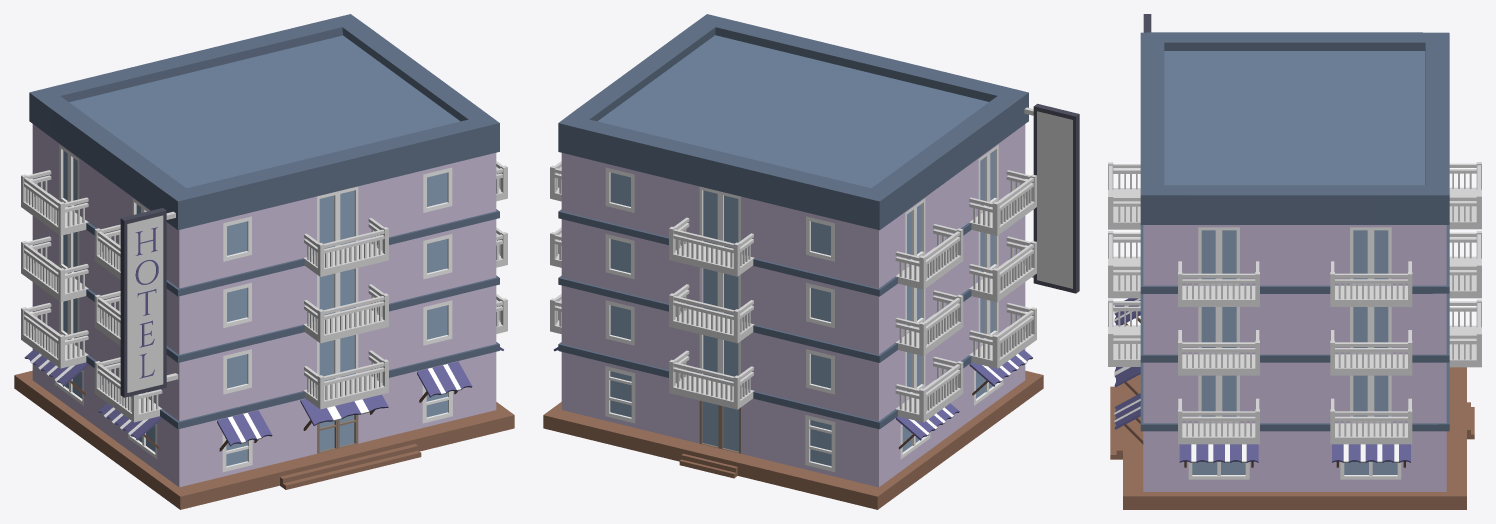
The model's file is Hotel_09.fbx.
3 renders of one model, left to right at view 1: azimuth 30°, elevation 25°; view 2: azimuth 150°, elevation 25°; view 3: azimuth 270°, elevation 25°, orthographic. The views are drawn at different scales.
Parts seen in each view (by area): view 1: Hotel_09; view 2: Hotel_09; view 3: Hotel_09.
Boxes of the visible parts, left/top/right/bottom form: Hotel_09: left=14, top=14, right=514, bottom=509; Hotel_09: left=543, top=14, right=1079, bottom=509; Hotel_09: left=1108, top=14, right=1481, bottom=509.
Bounding box in the file's own units: 1892 × 1359 × 1478.
